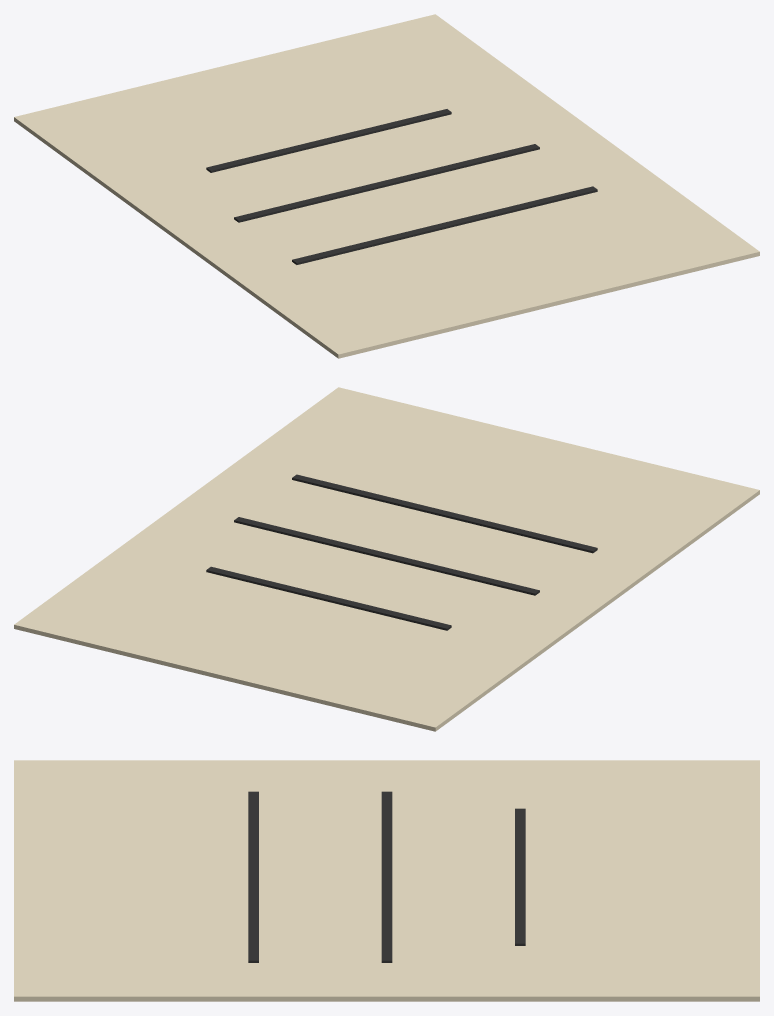
The model's file is letter.glb.
The picture shows the model from 3 angles, top to bottom: view 1: azimuth 30°, elevation 25°; view 2: azimuth 150°, elevation 25°; view 3: azimuth 270°, elevation 25°; orthographic projection. The views are drawn at different scales.
Visible parts, largest first — view 1: object 1, box (×2), object 2; view 2: object 1, box (×2), object 2; view 3: object 1, box (×2), object 2.
Part boxes in pixels (<box>): object 1: <box>14,14,759,358</box>; box (×2): <box>234,144,597,264</box>; object 2: <box>206,109,451,172</box>; object 1: <box>14,387,759,731</box>; box (×2): <box>234,474,597,595</box>; object 2: <box>206,566,451,630</box>; object 1: <box>14,760,759,1001</box>; box (×2): <box>248,791,392,962</box>; object 2: <box>515,808,525,945</box>.
Size of the model in its own units: 0.21 by 0.003 by 0.28.
